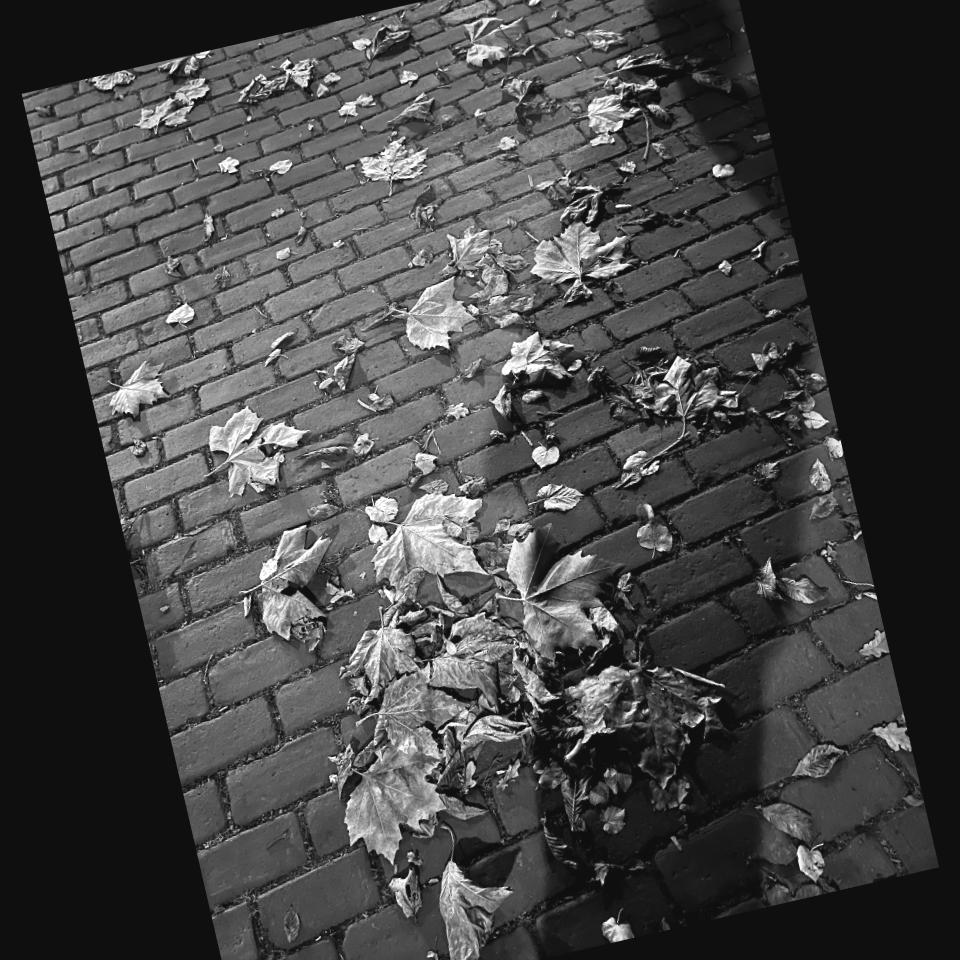weed: (812, 533, 855, 572)
